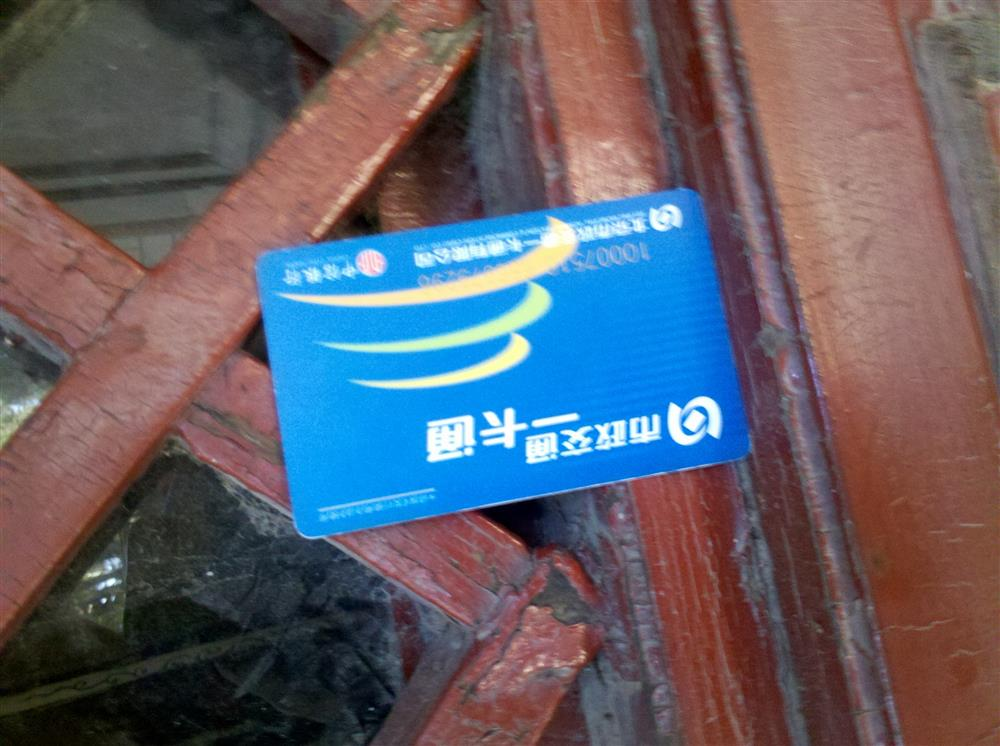bus_card: (254, 182, 755, 537)
